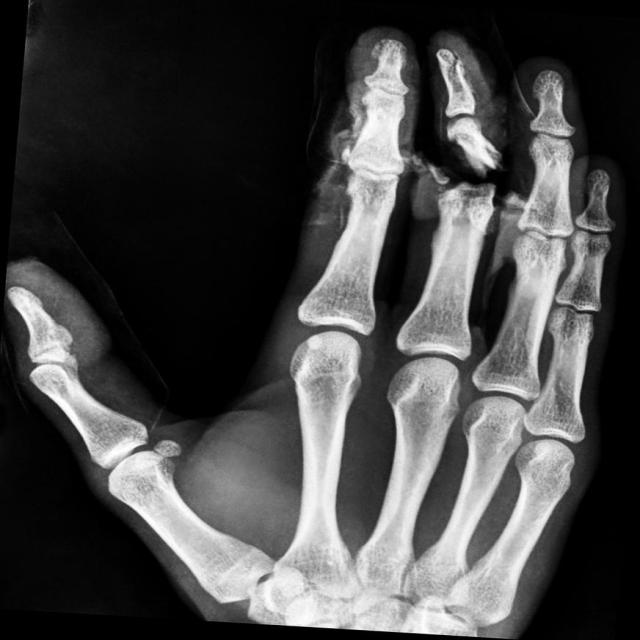Transverse: (434, 122, 512, 219)
